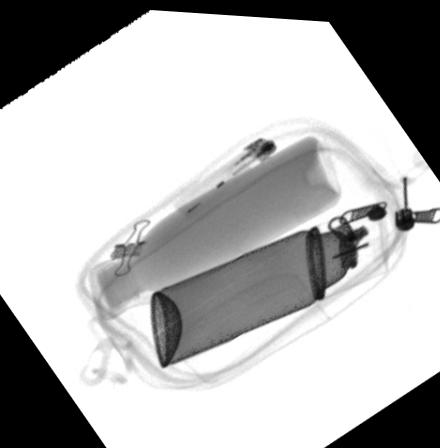Lighter: (168, 131, 275, 218)
Sprayer: (149, 197, 386, 365)
